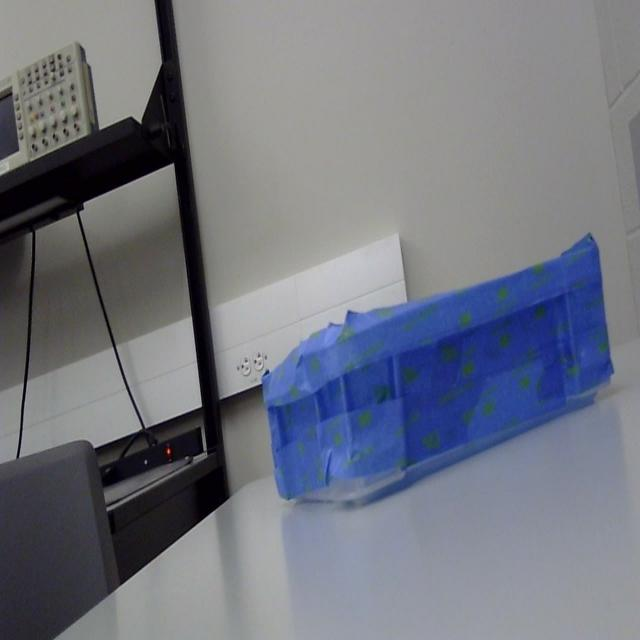bucket: (262, 236, 615, 510)
